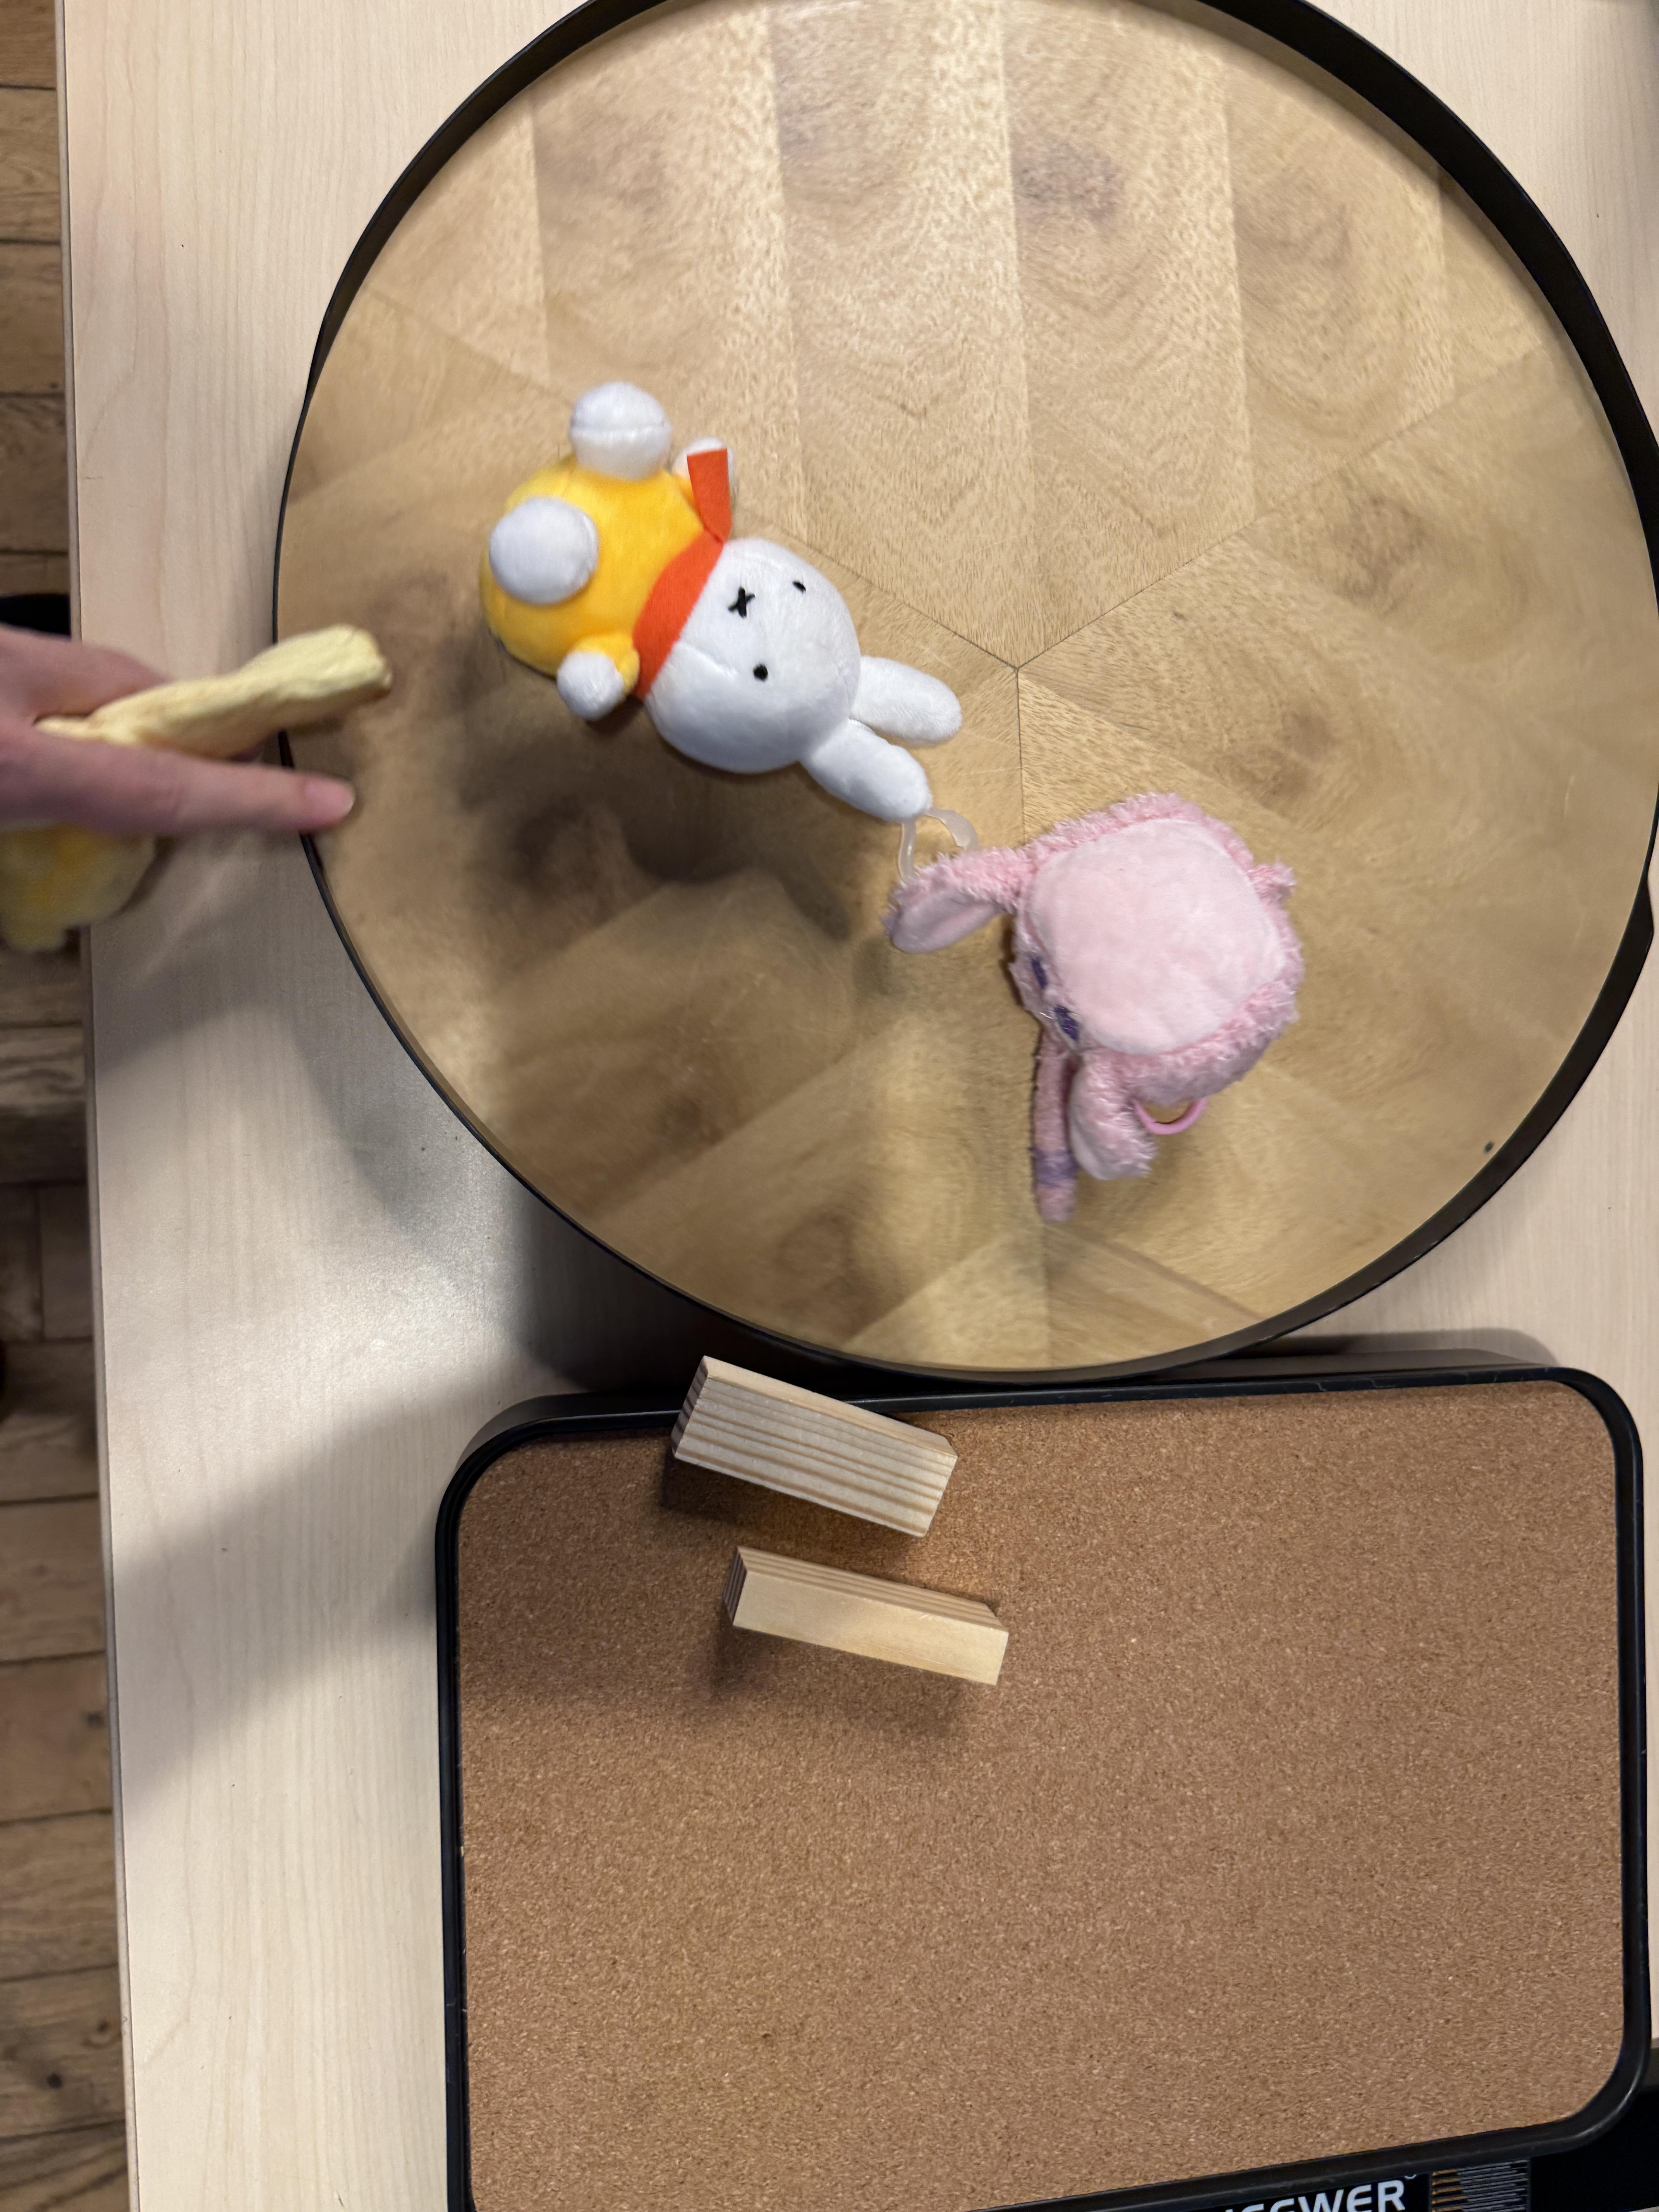block: (666, 1336, 955, 1538), (725, 1561, 1014, 1691)
bread: (12, 620, 396, 942)
doll: (465, 399, 958, 812), (906, 801, 1323, 1224)
